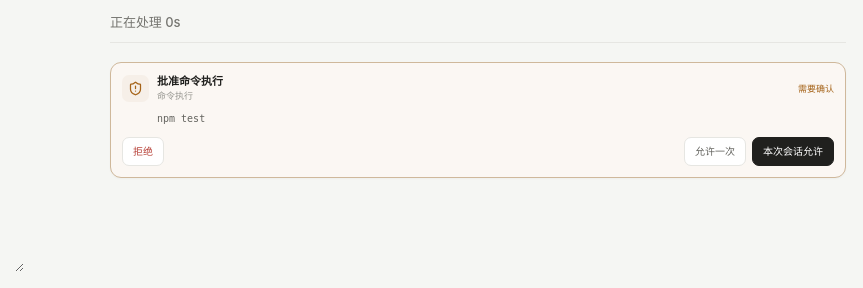
Codex conversation controls › resolves an approval from the timeline card
Expected: the text "命令执行" is shown, [157,91,193,101]
Expected: the text "npm test" is shown, [157,113,205,124]
Click the button "允许一次" at (715, 151), box [684,137,746,166]
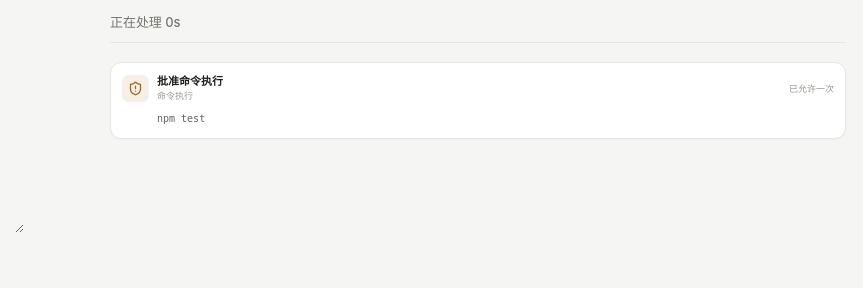
Expected: the text "已允许一次" is shown, [789,82,834,95]
